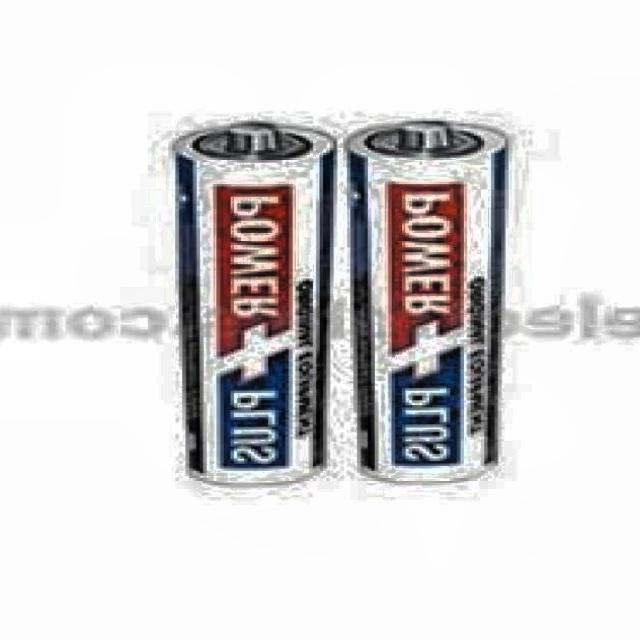battery: (176, 121, 333, 483), (351, 121, 505, 484)
